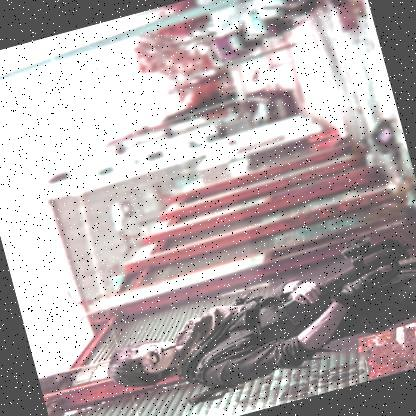rifle: (245, 220, 416, 337)
